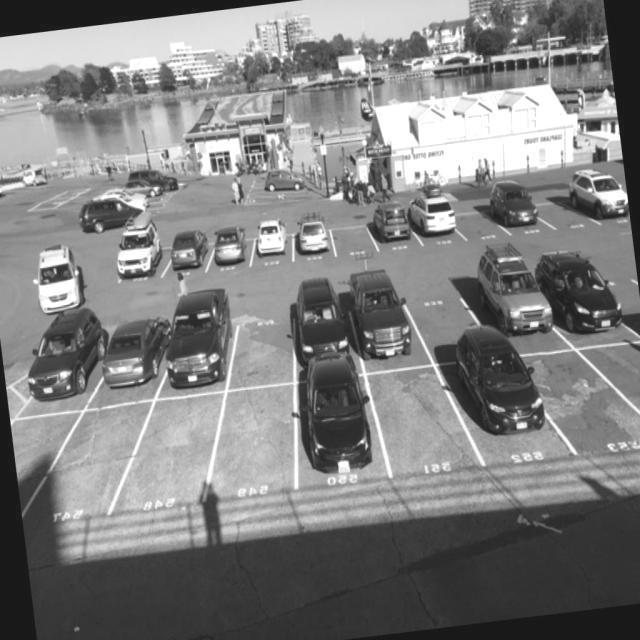space-empty: (35, 396, 153, 529), (121, 385, 234, 519), (526, 327, 622, 456), (207, 380, 306, 505), (366, 362, 459, 480), (394, 267, 490, 357), (214, 297, 310, 386), (527, 177, 592, 238), (329, 207, 383, 262), (452, 196, 505, 248)
space-occupied: (283, 363, 383, 484), (532, 243, 637, 353), (455, 333, 540, 466), (466, 247, 554, 345), (280, 281, 368, 373), (156, 305, 246, 393), (89, 317, 175, 402), (31, 317, 106, 412), (342, 268, 417, 363), (562, 161, 630, 236), (113, 229, 176, 294), (486, 178, 544, 238), (164, 223, 217, 284), (406, 200, 461, 255), (210, 218, 260, 278), (369, 196, 419, 256), (289, 213, 340, 264), (254, 215, 300, 271)
